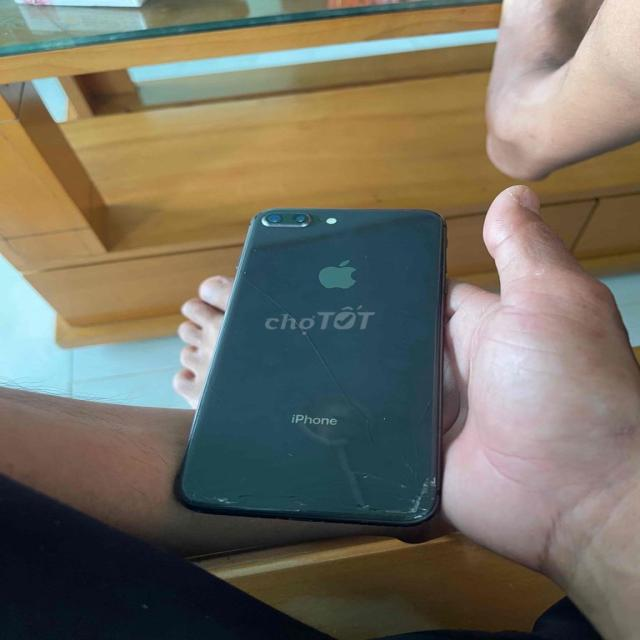gen_7_8: (177, 196, 445, 529)
